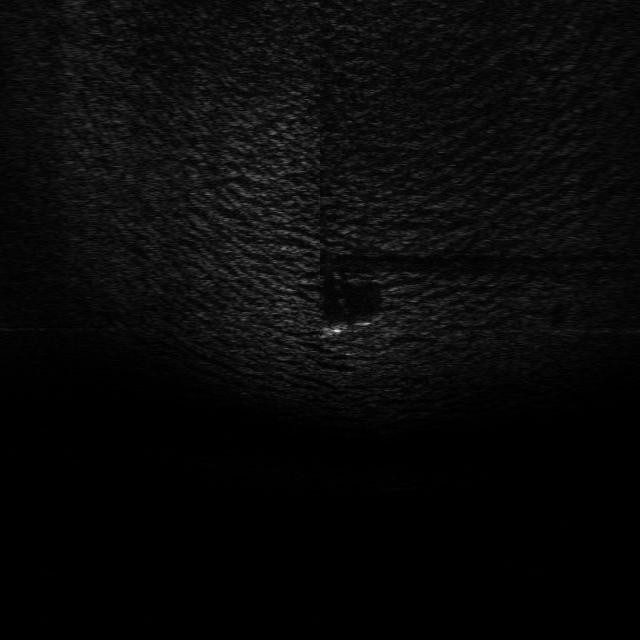plane: (319, 310, 387, 340)
